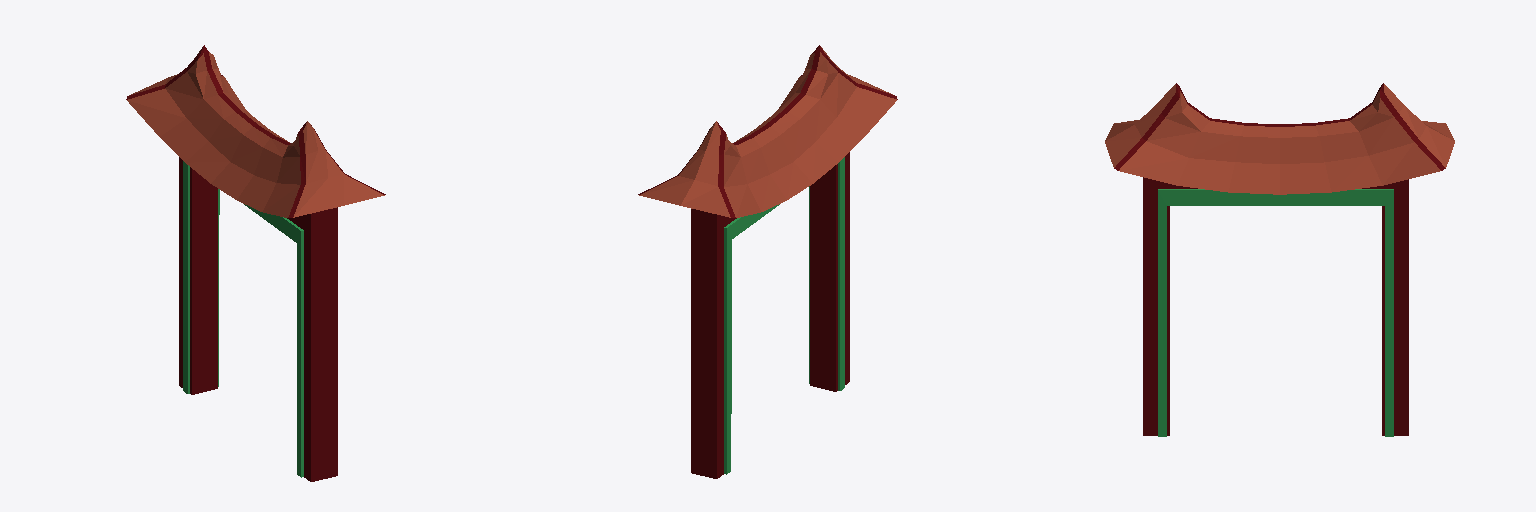
File: Gate_A.obj
3 views of the same model, side by side, from view 1: azimuth 30°, elevation 25°; view 2: azimuth 150°, elevation 25°; view 3: azimuth 270°, elevation 25° (orthographic).
Parts seen in each view (by area): view 1: Gate_A; view 2: Gate_A; view 3: Gate_A.
Boxes of the visible parts, box(x1,y1,x2,y2) form: Gate_A: box(126, 45, 385, 481); Gate_A: box(638, 45, 897, 478); Gate_A: box(1105, 83, 1454, 436).
Size of the model in its own units: 6.61 by 22.4 by 20.55.